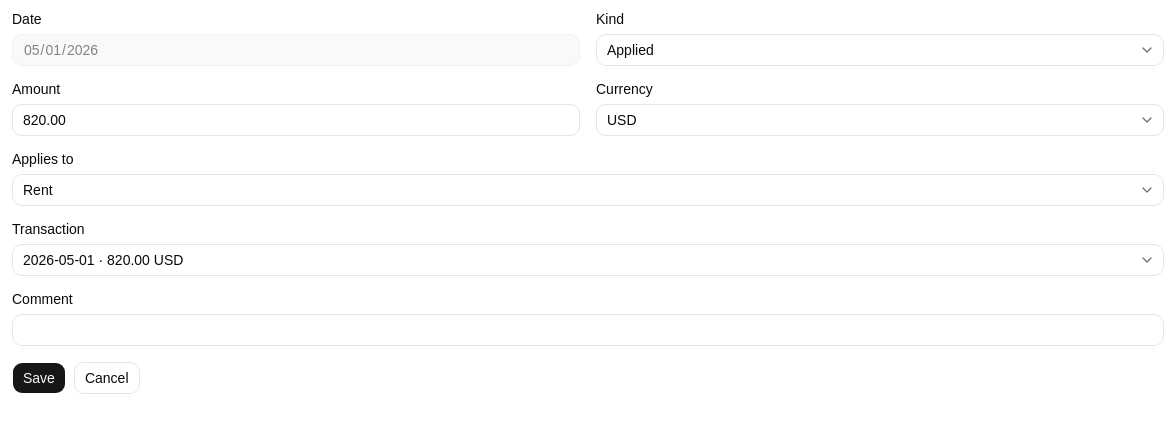
it: DepositMovementForm › shows string-shaped server errors on the transaction field
The image size is (1176, 439).
Click the button "Save". click: (39, 378)
box: 12,362 -> 66,394
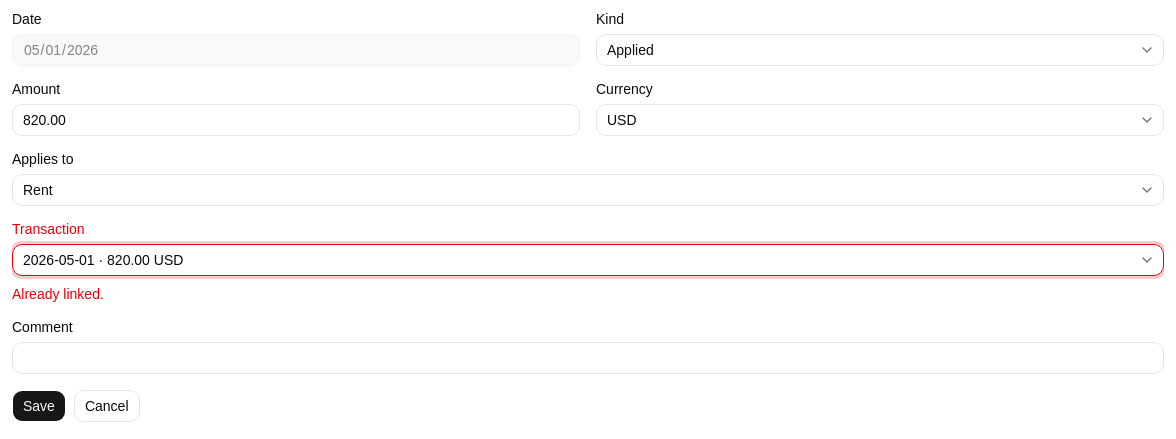
Result: the text "Already linked." is shown at 12,286 -> 104,302
